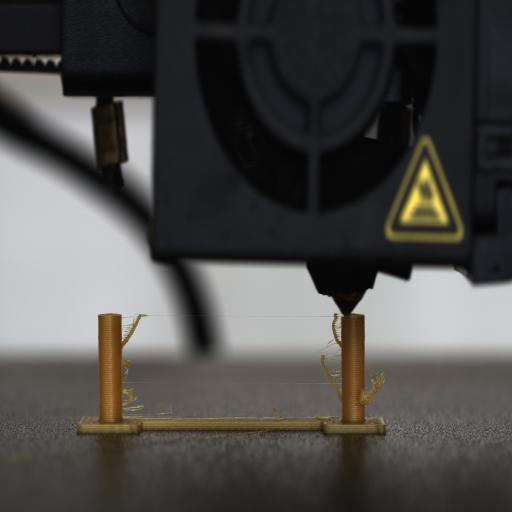stringing: (120, 304, 163, 422), (318, 308, 342, 423), (357, 364, 388, 414)
